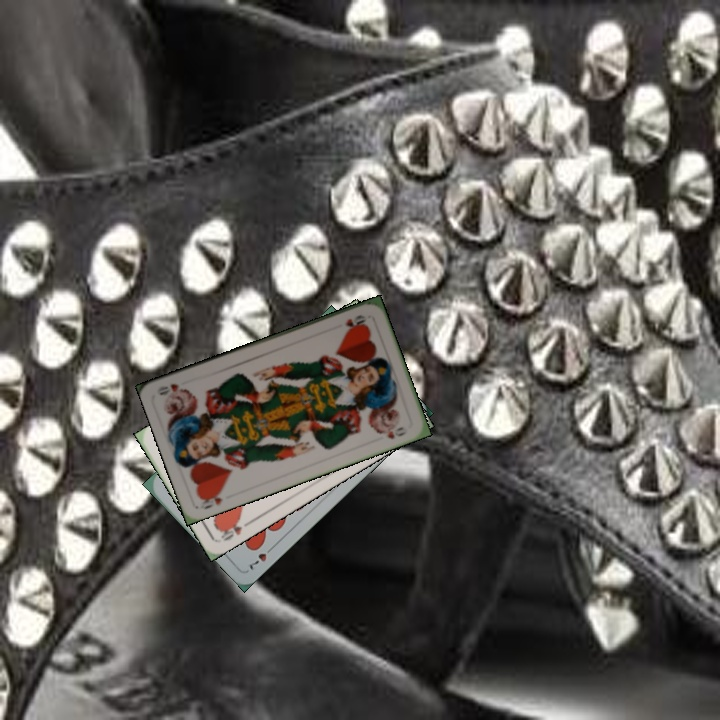H7: (245, 541, 277, 573)
HO: (216, 515, 253, 544), (196, 486, 226, 512), (342, 311, 370, 330)
